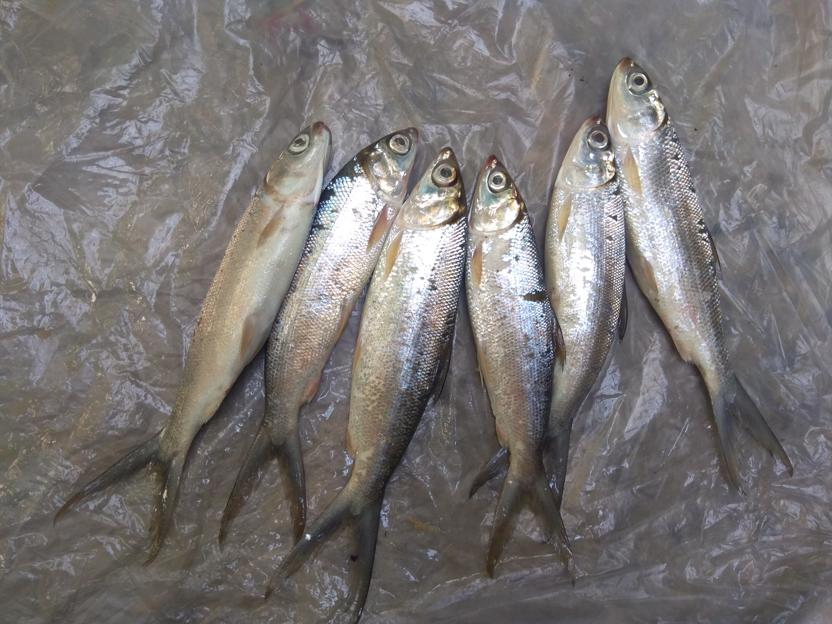Fish head: (397, 147, 470, 230), (264, 122, 332, 202), (605, 58, 666, 144), (557, 117, 622, 191), (471, 155, 526, 235), (356, 128, 419, 197)
Fish tail: (55, 428, 187, 567), (266, 482, 383, 622), (218, 419, 310, 553), (485, 466, 575, 588), (467, 424, 580, 519), (710, 371, 794, 488)
